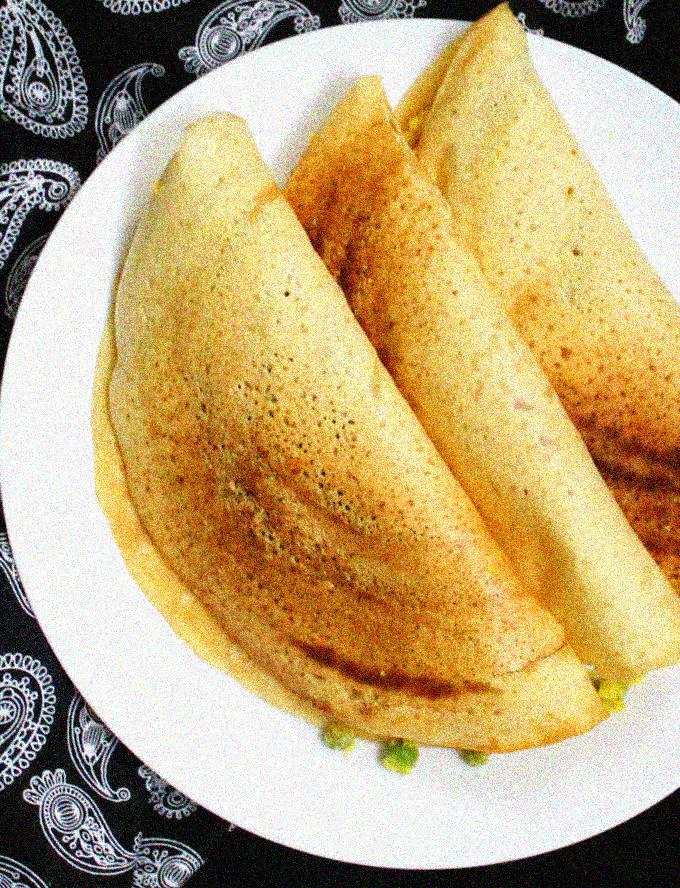dosa: (94, 111, 611, 752), (284, 75, 680, 682), (407, 4, 680, 577)
